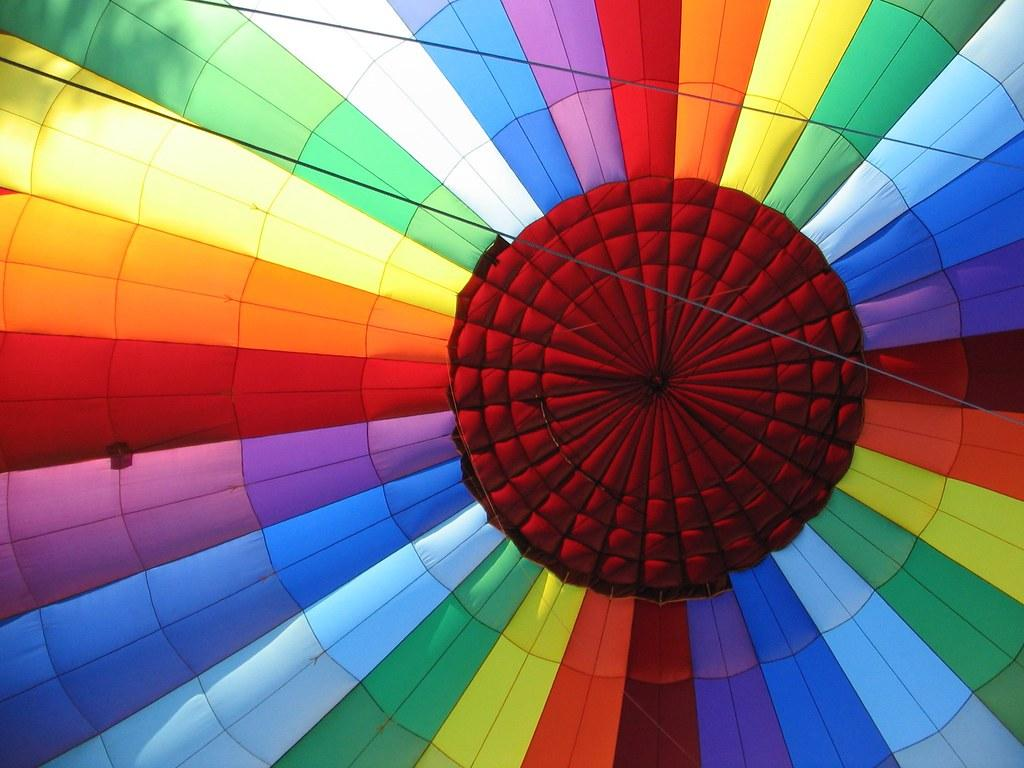balloon: (1, 1, 1023, 767)
